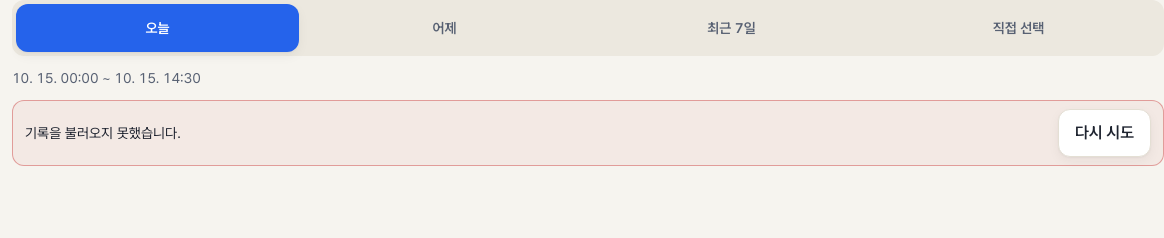
Test case: RecordList › 불러오지 못하면 오류와 다시 시도 버튼을 보인다
Check: the message shows "기록을 불러오지 못했습니다.", box [25,125,181,141]
Click the button "다시 시도". click: (1104, 133)
box: [1058,109,1151,157]
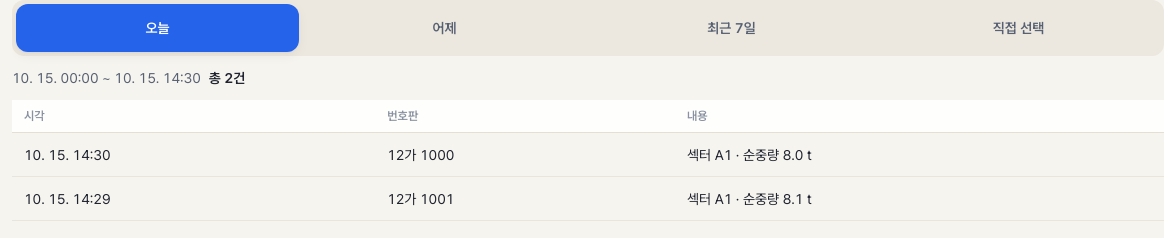
Check: the text "총 2건" is shown, box [209,68,245,88]
Check: the message "기록을 불러오지 못했습니다. 다시 시도" is gone
